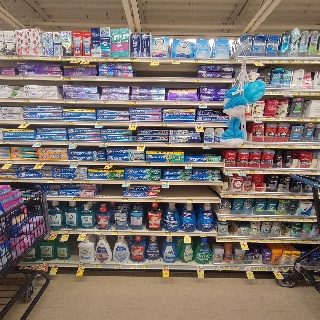All PRICE TAGS: (101, 57, 110, 62), (264, 116, 272, 121), (6, 55, 16, 59), (308, 59, 317, 63), (20, 76, 29, 80), (1, 140, 10, 144), (110, 57, 119, 61), (63, 76, 72, 80), (69, 141, 78, 145), (164, 143, 173, 147), (72, 197, 81, 201), (270, 91, 279, 95), (50, 56, 59, 60), (39, 56, 48, 60), (214, 266, 221, 271), (301, 144, 308, 149), (298, 59, 305, 64), (94, 77, 105, 80), (242, 194, 250, 198), (289, 195, 297, 199), (300, 195, 308, 199), (276, 217, 284, 221), (232, 266, 240, 270), (260, 267, 268, 271), (311, 240, 319, 244), (307, 218, 315, 222), (311, 145, 319, 149), (304, 91, 312, 95), (22, 98, 30, 102), (6, 160, 14, 164), (51, 230, 59, 234), (129, 122, 137, 126), (130, 57, 138, 61), (207, 59, 215, 63), (102, 100, 110, 104), (94, 230, 102, 234), (113, 264, 121, 268), (272, 170, 280, 174), (277, 144, 285, 148), (251, 144, 259, 148), (286, 117, 294, 121), (293, 91, 301, 95), (282, 91, 290, 95), (267, 59, 275, 63), (253, 59, 261, 63), (151, 58, 159, 62), (253, 194, 260, 198), (264, 217, 271, 221), (230, 216, 237, 220), (241, 217, 248, 221), (253, 217, 260, 221), (217, 238, 224, 242), (226, 238, 233, 242), (259, 239, 266, 243), (279, 239, 286, 243), (290, 239, 297, 243), (301, 239, 308, 243), (223, 266, 230, 270), (245, 266, 252, 270), (272, 267, 279, 271), (282, 268, 289, 272), (311, 171, 318, 175), (24, 120, 31, 124), (36, 141, 43, 145), (38, 160, 45, 164), (12, 178, 19, 182), (48, 179, 55, 183), (83, 179, 90, 183), (63, 230, 70, 234), (154, 198, 161, 202), (174, 101, 181, 105), (160, 122, 167, 126), (162, 181, 169, 185), (94, 264, 101, 268), (130, 264, 137, 268), (162, 265, 169, 269), (221, 193, 228, 197), (282, 170, 289, 174), (264, 144, 271, 148), (297, 117, 304, 121), (253, 117, 260, 121), (62, 57, 71, 60), (73, 57, 82, 60), (171, 58, 180, 61), (191, 78, 200, 81), (69, 100, 78, 103), (66, 121, 75, 124), (69, 161, 78, 164), (287, 145, 296, 148), (265, 195, 273, 198), (297, 218, 305, 221), (286, 218, 294, 221), (220, 217, 226, 221), (240, 238, 246, 242), (269, 239, 277, 242), (254, 267, 260, 271), (310, 118, 318, 121), (314, 91, 320, 95), (91, 58, 99, 61), (83, 57, 91, 60), (194, 59, 202, 62), (129, 101, 137, 104), (198, 102, 206, 105), (100, 142, 108, 145), (202, 144, 210, 147), (106, 162, 114, 165), (122, 198, 128, 202), (111, 231, 119, 234), (128, 231, 136, 234), (197, 265, 203, 269), (288, 60, 296, 63), (277, 60, 285, 63), (16, 56, 24, 59), (277, 195, 284, 198), (250, 239, 257, 242), (145, 162, 152, 165), (96, 122, 103, 125), (195, 123, 202, 126), (138, 143, 145, 146), (185, 163, 192, 166), (123, 181, 130, 184), (187, 199, 194, 202), (80, 230, 87, 233), (165, 232, 172, 235), (183, 232, 190, 235), (199, 232, 206, 235), (142, 265, 149, 268), (232, 194, 239, 197), (224, 170, 231, 173), (259, 170, 266, 173), (249, 170, 256, 173), (237, 170, 244, 173), (273, 117, 280, 120), (17, 56, 24, 59), (53, 263, 59, 266), (79, 264, 85, 267), (238, 59, 242, 63), (239, 145, 246, 147)
